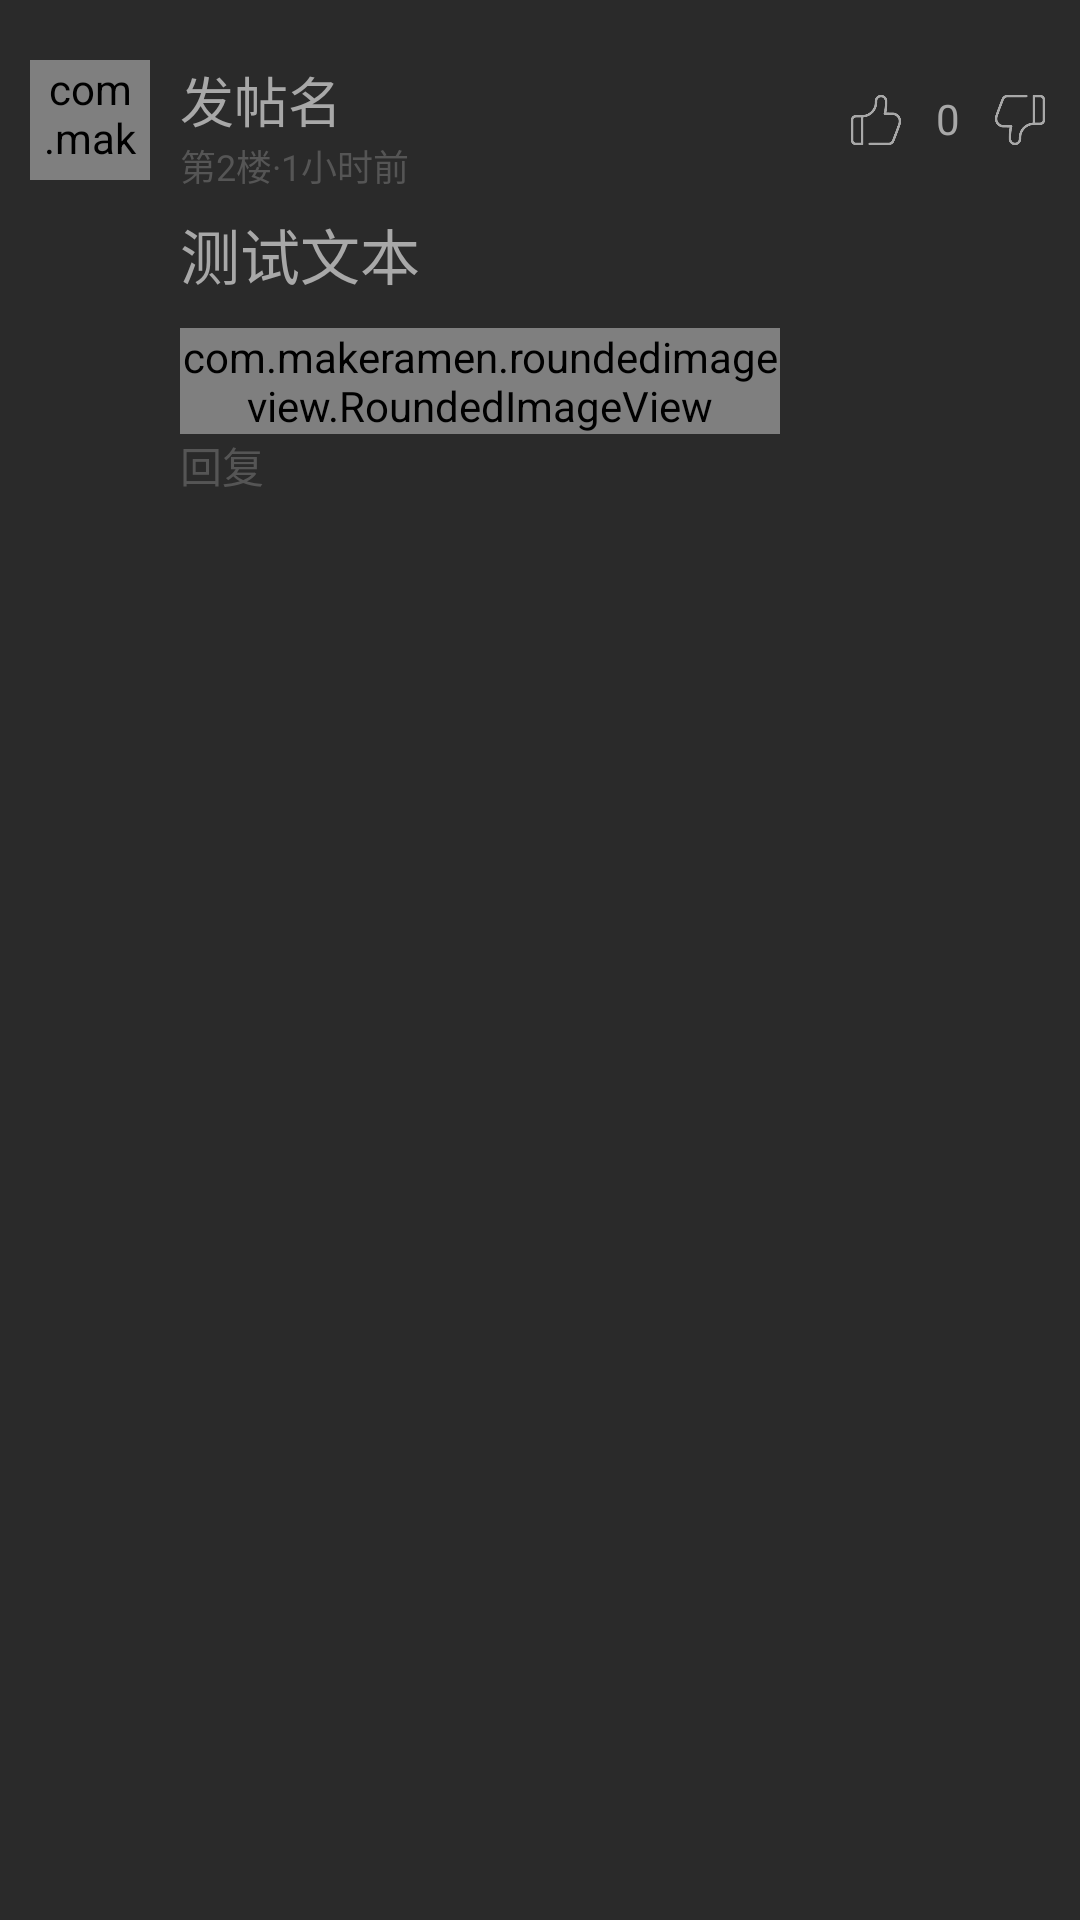

Named icons in this screenshot (1080w x 1920h) and their bounding boxes, bbox(x1, y1, x2, y2):
cai: bbox(995, 95, 1045, 145)
zan: bbox(851, 95, 901, 145)
